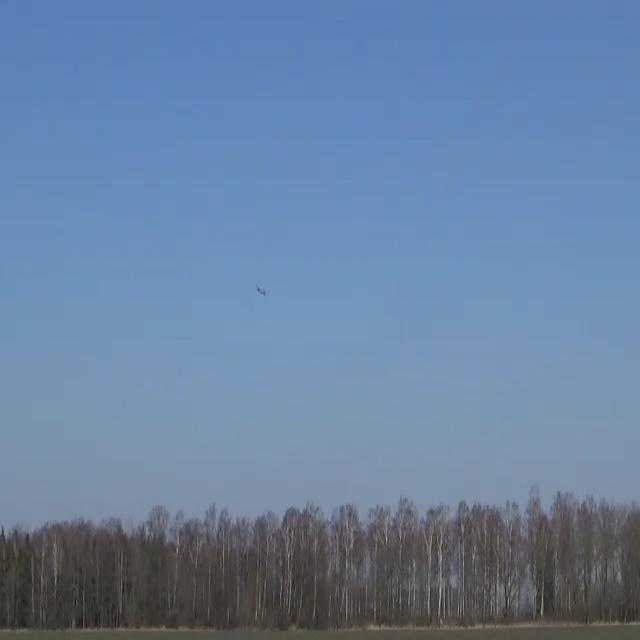drone: (255, 284, 265, 295)
